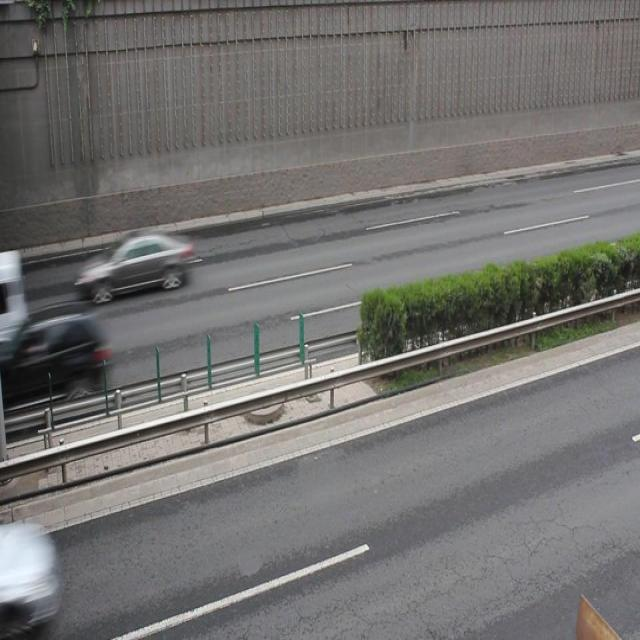car: (14, 300, 107, 404), (77, 227, 193, 300)
